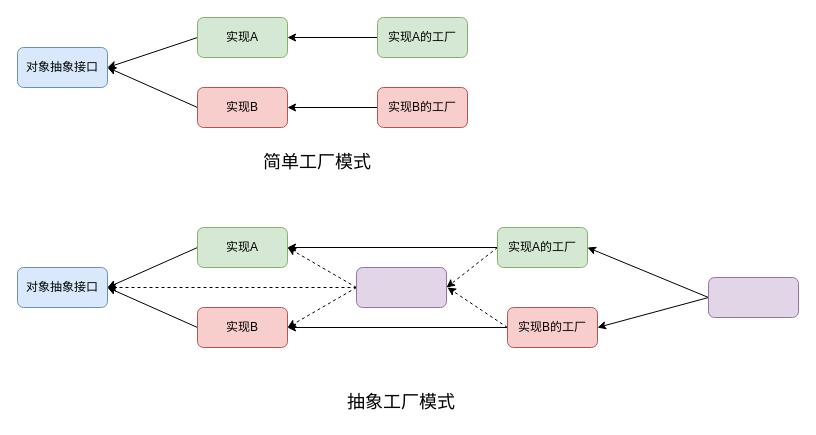
Some shapes in this 816 by 435 pixel diagram are drawn without their labels. Here are the shapes that lost their labels. From the top down, the centre of each, then its label:
At (401,287): "抽象工厂接口".
At (753,297): "工厂的工厂".
